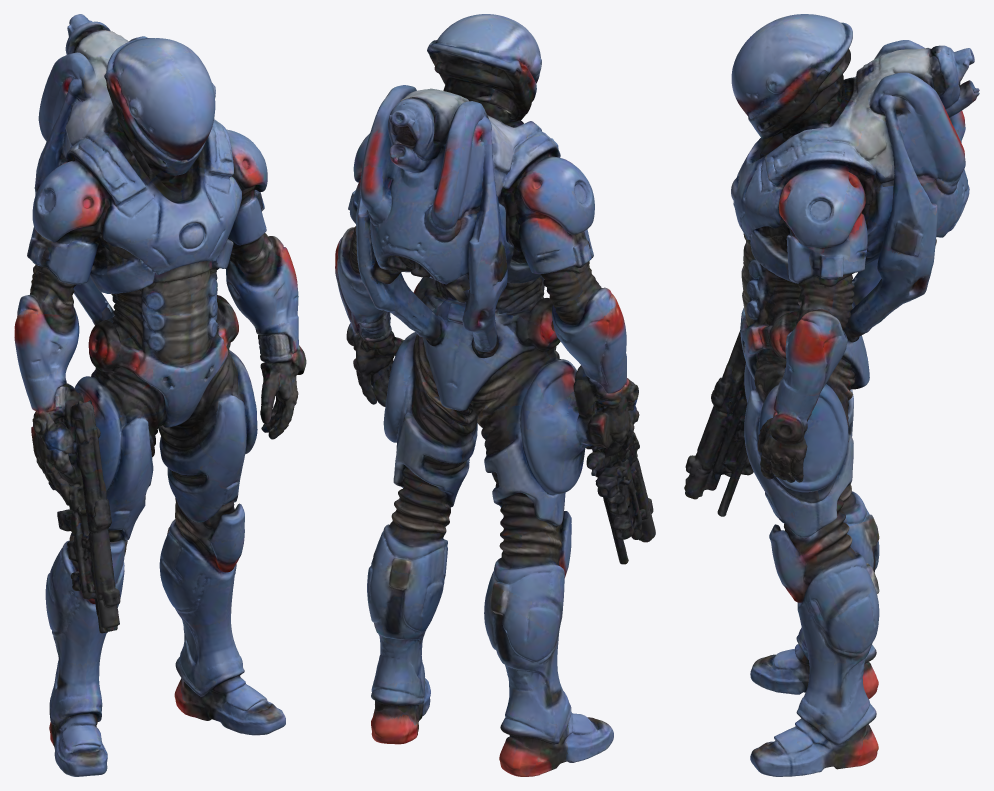
The model's file is soldier-compressed.glb.
3 views of the same model, side by side, from view 1: azimuth 30°, elevation 25°; view 2: azimuth 150°, elevation 25°; view 3: azimuth 270°, elevation 25° (orthographic). The views are drawn at different scales.
Size of the model in its own units: 25798 by 62372 by 23605.
1 material, 1 textured.
